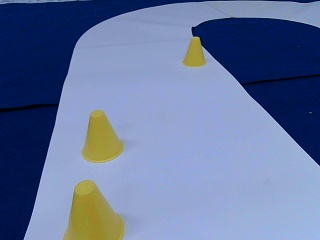cone: (64, 181, 123, 238), (81, 111, 124, 162), (182, 38, 205, 66)
